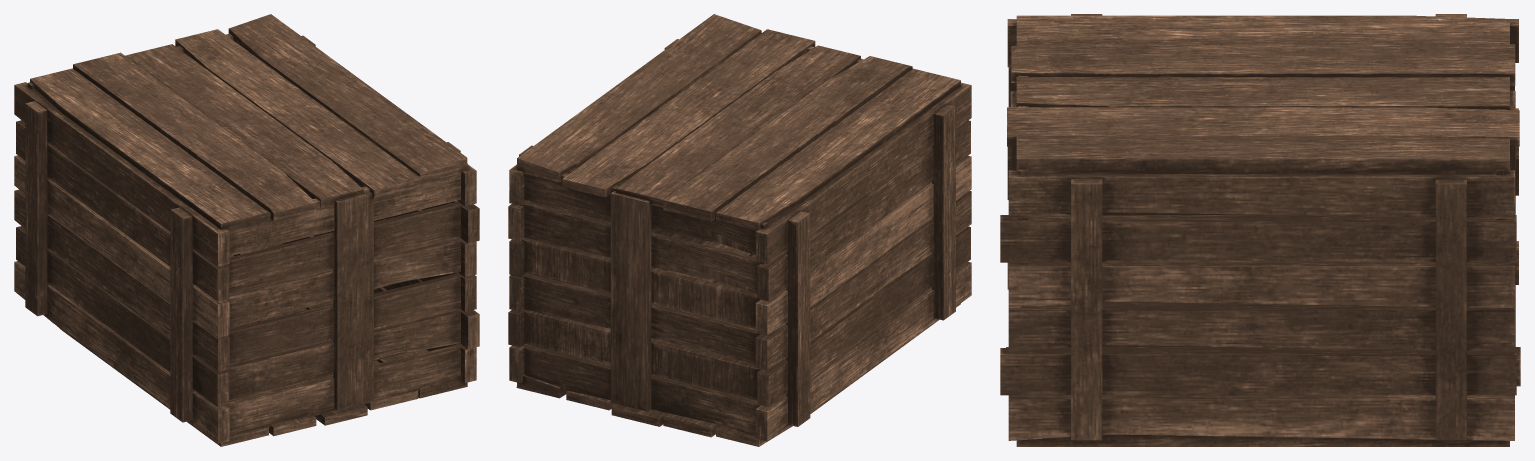
Rendered from cajas.glb.
The picture shows the model from 3 angles, left to right: view 1: azimuth 30°, elevation 25°; view 2: azimuth 150°, elevation 25°; view 3: azimuth 270°, elevation 25°; orthographic projection. The views are drawn at different scales.
Visible parts, largest first — view 1: create_three1; view 2: create_three1; view 3: create_three1.
Boxes of the visible parts, <box> form: create_three1: <box>14,14,479,446</box>; create_three1: <box>508,14,971,446</box>; create_three1: <box>1000,14,1520,446</box>.
Size of the model in its own units: 0.621 by 0.4889 by 0.8013.
1 material, 1 textured.
